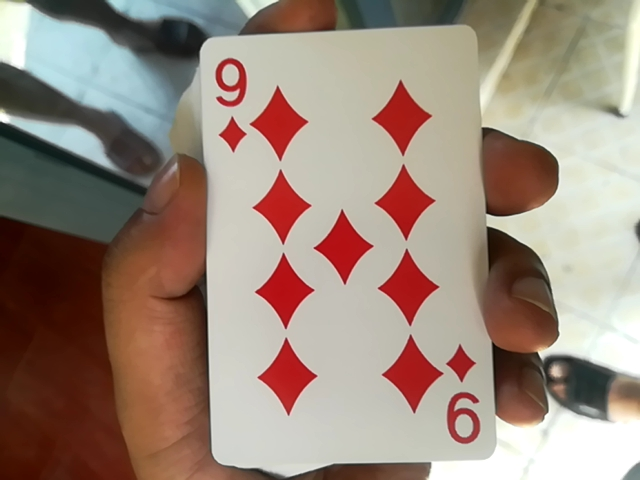fk 9: (189, 29, 499, 473)
